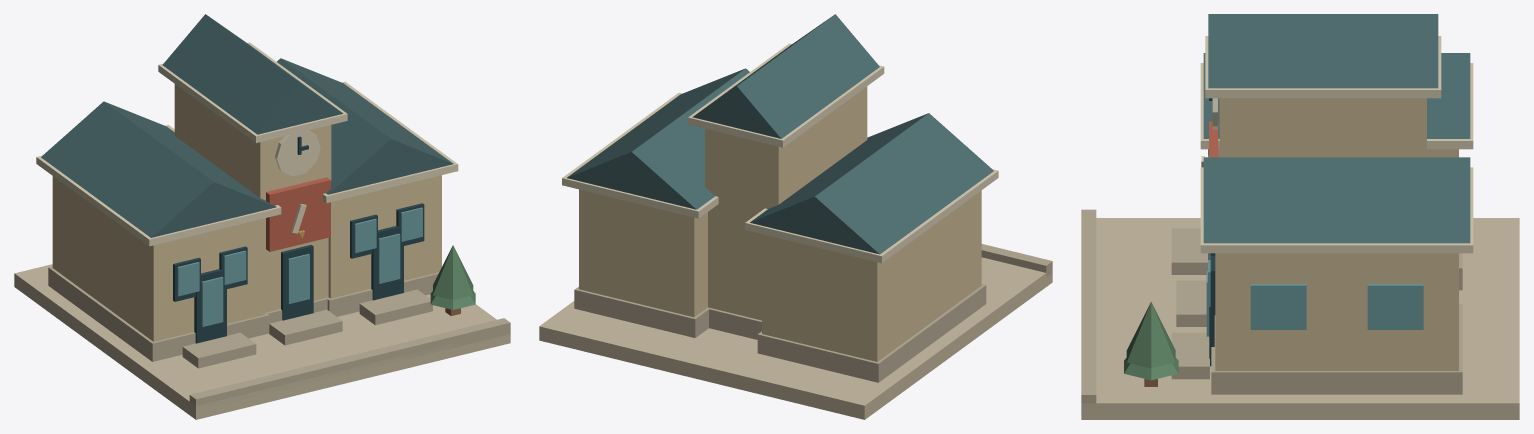
File: school-sunrise-complete.glb
The picture shows the model from 3 angles, left to right: view 1: azimuth 30°, elevation 25°; view 2: azimuth 150°, elevation 25°; view 3: azimuth 270°, elevation 25°; orthographic projection. The views are drawn at different scales.
Parts seen in each view (by area): view 1: school; view 2: school; view 3: school.
Boxes of the visible parts, bbox=[...] form: school: bbox=[14, 14, 510, 419]; school: bbox=[539, 14, 1052, 419]; school: bbox=[1081, 14, 1519, 419].
Size of the model in its own units: 2.88 by 2.27 by 2.88.
